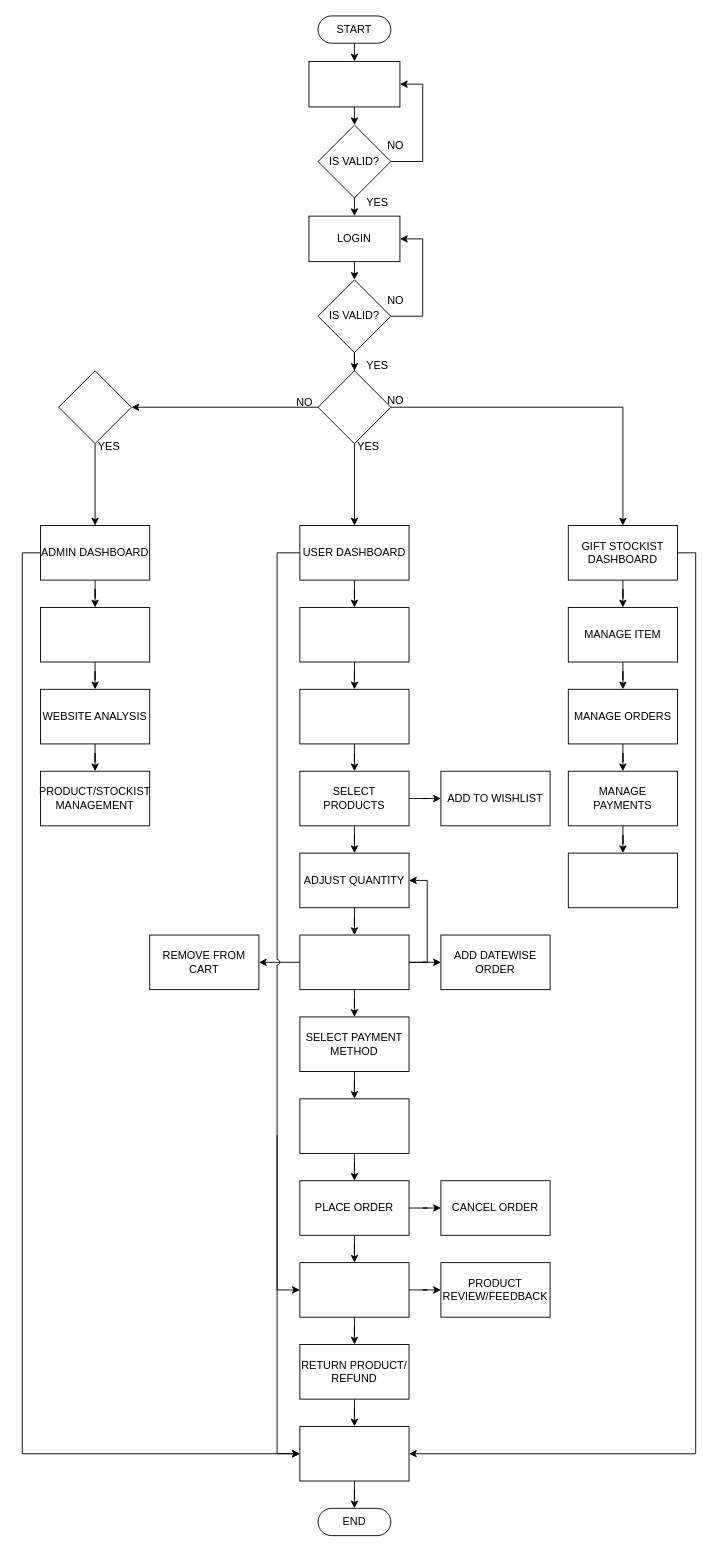
This 719x1552 diagram has some shape labels left out. Each missing label, with the centre of its shape:
"ADD TO CART" belongs at (354,962).
"CONTROL PANEL" belongs at (95,634).
"IS ADMIN?" belongs at (94,407).
"IS USER?" belongs at (354,407).
"LOGOUT" belongs at (354,1453).
"MAKE PAYMENT" belongs at (354,1125).
"ORDER HISTORY" belongs at (354,1289).
"REFUND" belongs at (622,880).
"REGISTRATION" belongs at (354,84).
"SEARCH/SEE CATEGORIES" belongs at (354,634).
"SEARCH/SEE PRODUCTS" belongs at (354,716).
